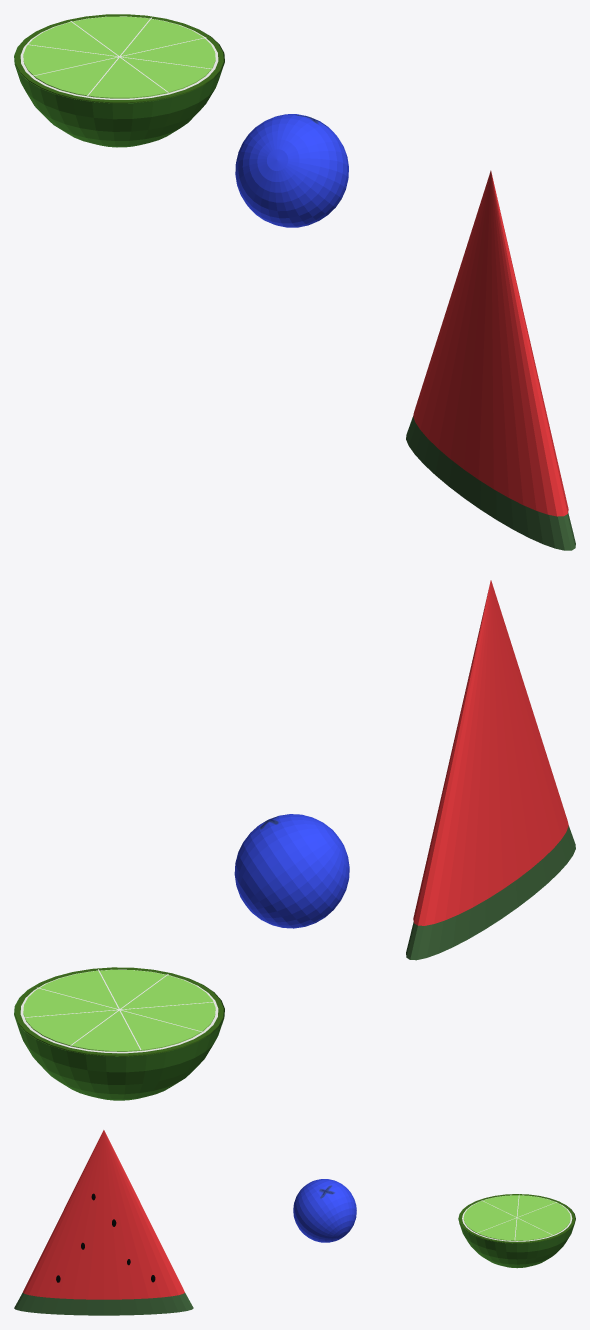
Rendered from lime.gltf.
The picture shows the model from 3 angles, top to bottom: view 1: azimuth 30°, elevation 25°; view 2: azimuth 150°, elevation 25°; view 3: azimuth 270°, elevation 25°; orthographic projection. The views are drawn at different scales.
Parts seen in each view (by area): view 1: watermelon, lime, blueberry; view 2: watermelon, lime, blueberry; view 3: watermelon, lime, blueberry.
Boxes of the visible parts, x1=… form: watermelon: x1=406, y1=170, x2=575, y2=550; lime: x1=14, y1=14, x2=224, y2=147; blueberry: x1=235, y1=114, x2=348, y2=227; watermelon: x1=406, y1=580, x2=575, y2=960; lime: x1=14, y1=967, x2=224, y2=1100; blueberry: x1=234, y1=814, x2=349, y2=928; watermelon: x1=14, y1=1130, x2=193, y2=1315; lime: x1=458, y1=1194, x2=575, y2=1268; blueberry: x1=293, y1=1179, x2=356, y2=1242.
Size of the model in its own units: 3.71 by 6.22 by 17.72.
17 materials, 1 textured.
